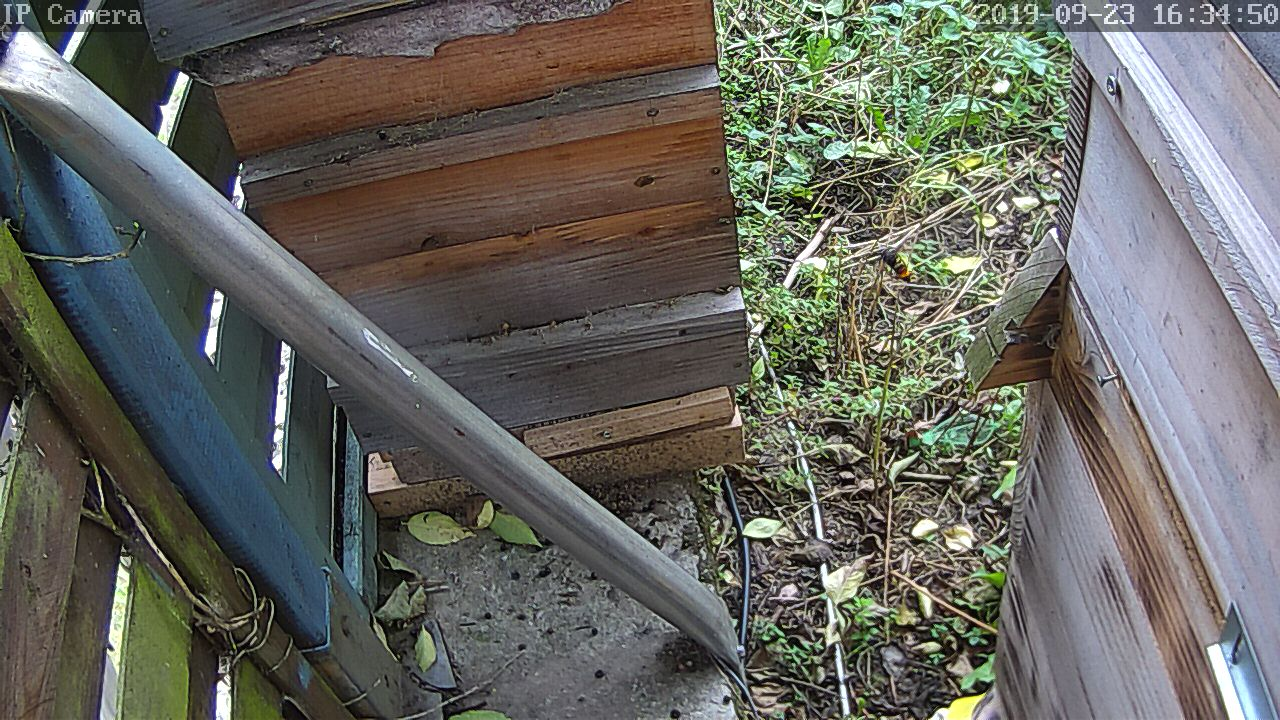hornet: (877, 243, 918, 286)
